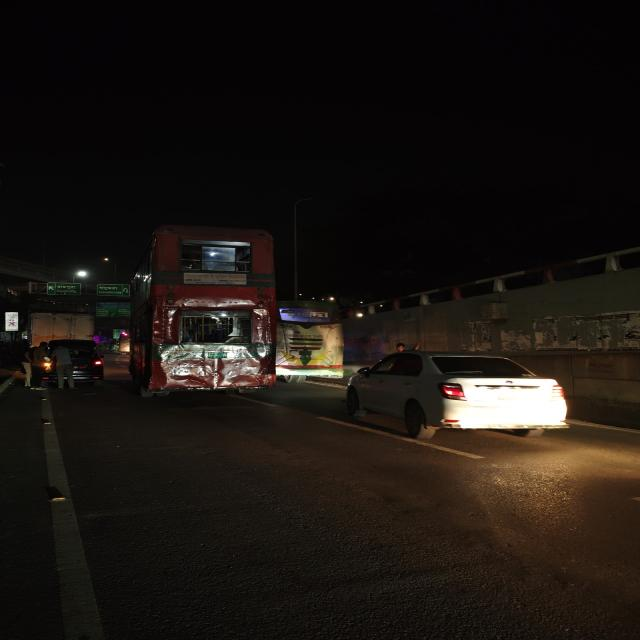bus: (128, 220, 282, 402), (274, 298, 348, 386)
car: (341, 347, 568, 445), (36, 338, 107, 384)
